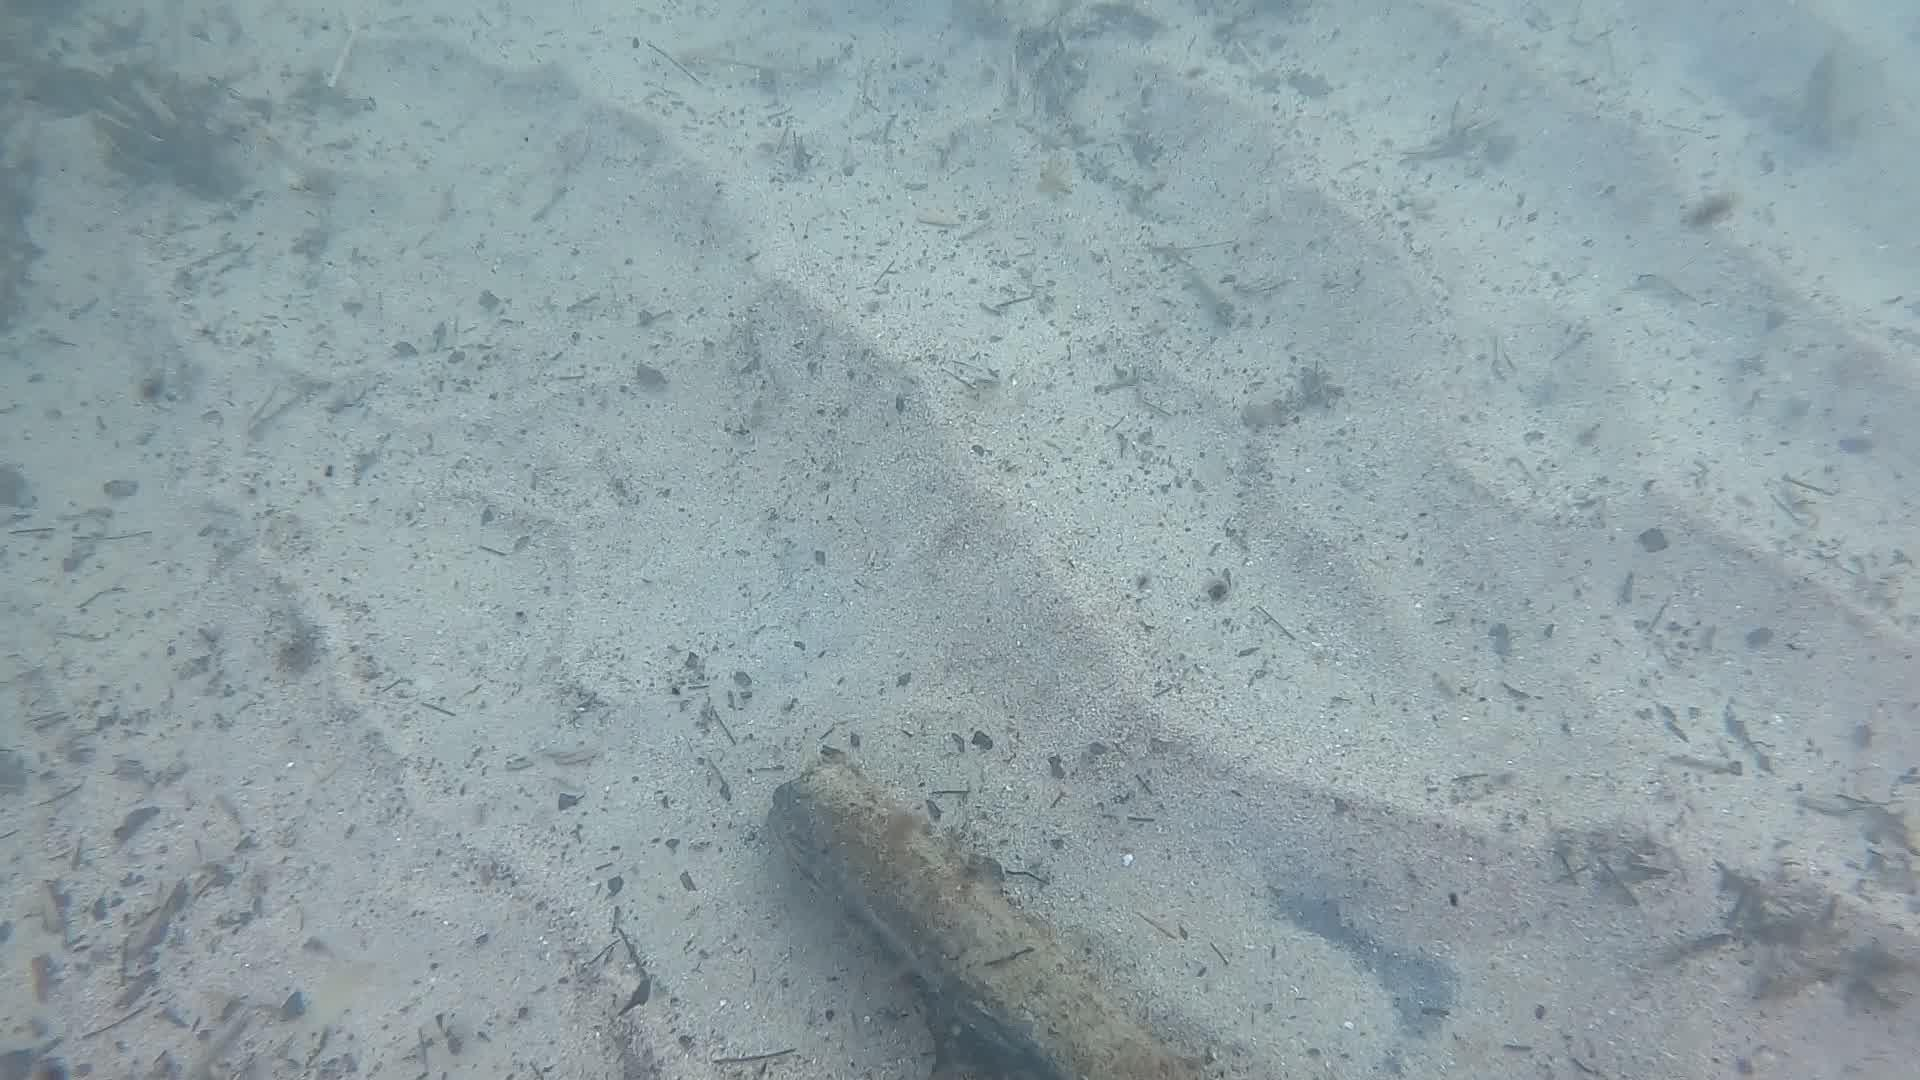wood: (761, 742, 1216, 1080)
